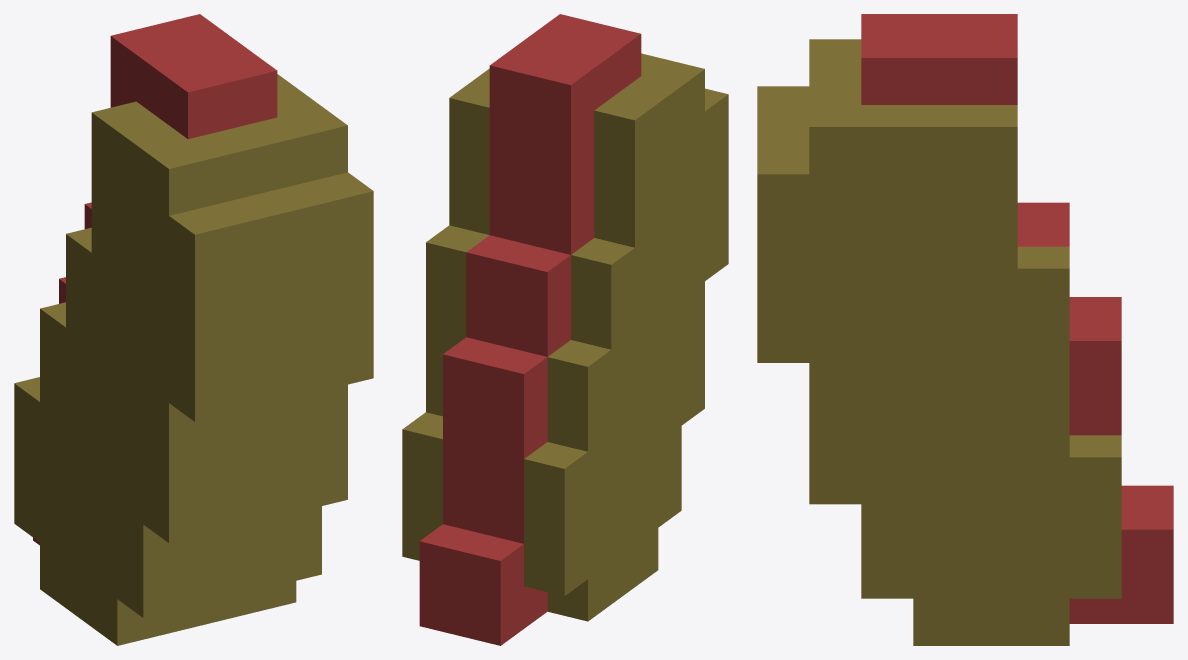
File: id-beach-hotdog.obj
3 renders of one model, left to right at view 1: azimuth 30°, elevation 25°; view 2: azimuth 150°, elevation 25°; view 3: azimuth 270°, elevation 25°, orthographic. The views are drawn at different scales.
Size of the model in its own units: 4 by 12 by 8.
1 material, 1 textured.
